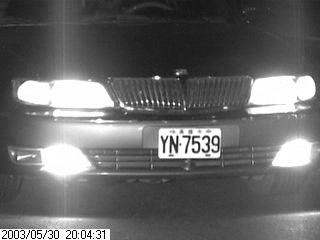plate: (157, 126, 222, 159)
